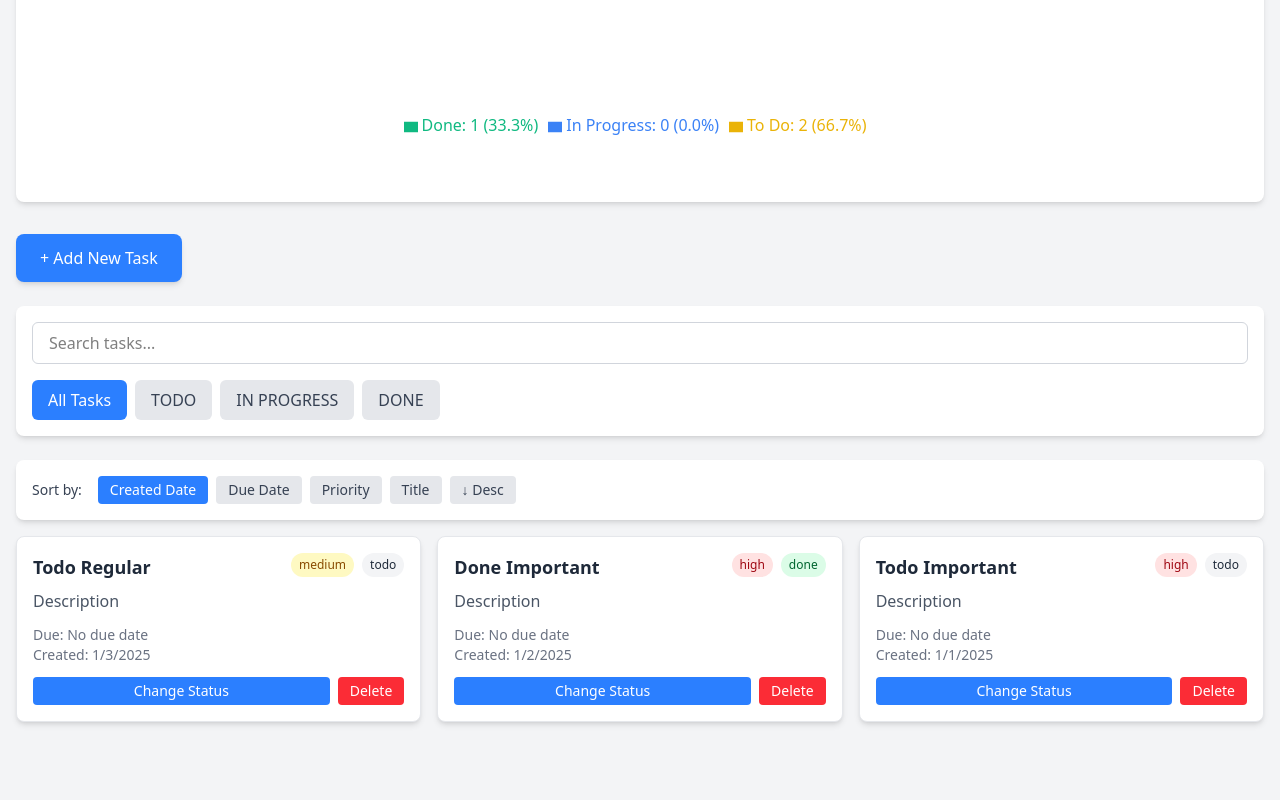
Test case: App Integration Tests › Filtering and Searching Flow › should combine filter and search
(page scrolled)
Click the button with aria-label "filter by todo" at (174, 400), box left=135, top=380, right=212, bottom=420
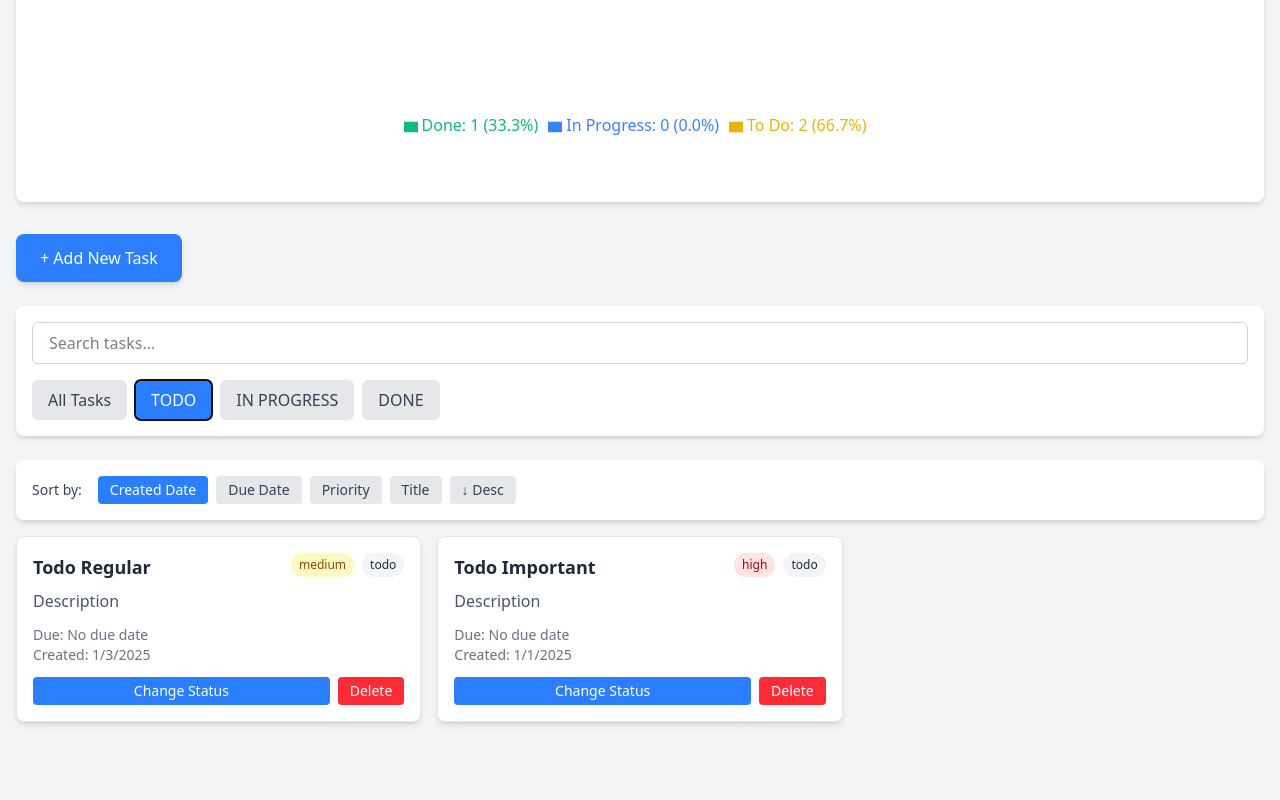
Search for "Important"
Type "Important" into the field with placeholder "Search tasks..." at (640, 343), box left=32, top=322, right=1248, bottom=364
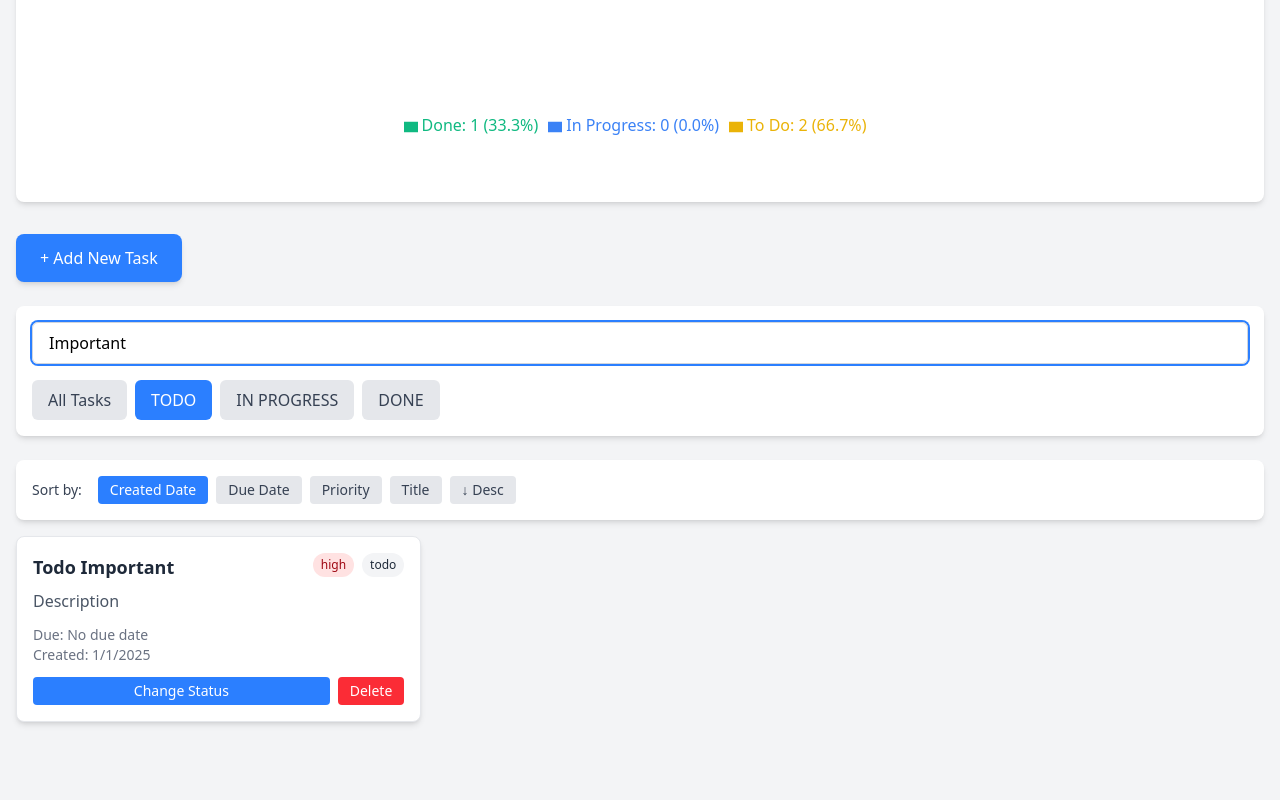
Check: the heading "Todo Important" is shown, box left=33, top=553, right=174, bottom=581
Check: the heading "Todo Regular" is gone
